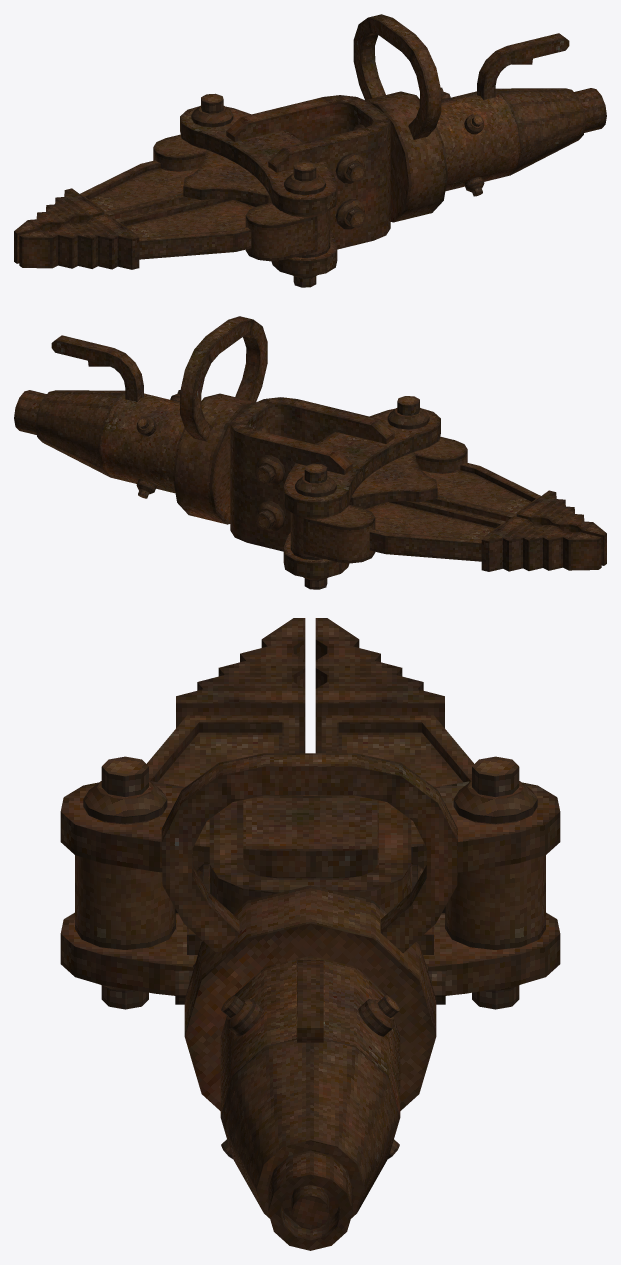
Rendered from hydraulic_spreader_etx_1.glb.
3 renders of one model, top to bottom at view 1: azimuth 30°, elevation 25°; view 2: azimuth 150°, elevation 25°; view 3: azimuth 270°, elevation 25°, orthographic. The views are drawn at different scales.
Parts seen in each view (by area): view 1: hydraulic_spreader_etx_1, hydraulic_spreader_etx_1_arm_child; view 2: hydraulic_spreader_etx_1, hydraulic_spreader_etx_1_arm_child; view 3: hydraulic_spreader_etx_1, hydraulic_spreader_etx_1_arm_child.
Part boxes in pixels (<box>): hydraulic_spreader_etx_1: <box>19,14,606,287</box>; hydraulic_spreader_etx_1_arm_child: <box>14,134,207,263</box>; hydraulic_spreader_etx_1: <box>14,316,606,589</box>; hydraulic_spreader_etx_1_arm_child: <box>290,501,601,571</box>; hydraulic_spreader_etx_1: <box>60,618,560,1250</box>; hydraulic_spreader_etx_1_arm_child: <box>315,618,545,949</box>.
Size of the model in its own units: 1.19 by 0.3687 by 0.4452.
1 material, 1 textured.
